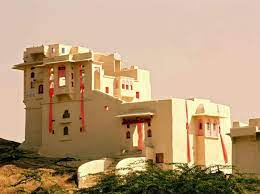Mud House: (11, 41, 241, 185)
